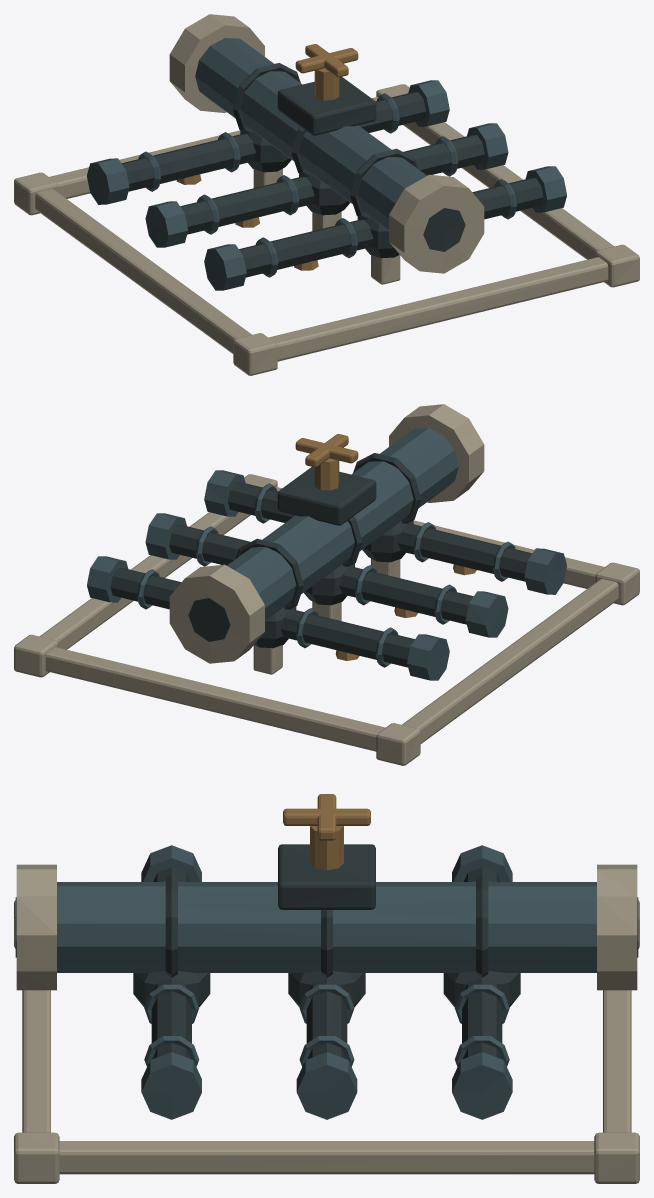
File: Drip-Irrigation.glb
3 views of the same model, one above another, from view 1: azimuth 30°, elevation 25°; view 2: azimuth 150°, elevation 25°; view 3: azimuth 270°, elevation 25° (orthographic). The views are drawn at different scales.
Visible parts, largest first — view 1: drip-irrigation-static-drip-rail-mat, drip-irrigation-static-drip-charcoal-fitting-mat, drip-irrigation-static-drip-blue-grey-pipe-mat, drip-irrigation-static-drip-brass-valve-mat; view 2: drip-irrigation-static-drip-rail-mat, drip-irrigation-static-drip-charcoal-fitting-mat, drip-irrigation-static-drip-blue-grey-pipe-mat, drip-irrigation-static-drip-brass-valve-mat; view 3: drip-irrigation-static-drip-blue-grey-pipe-mat, drip-irrigation-static-drip-rail-mat, drip-irrigation-static-drip-charcoal-fitting-mat, drip-irrigation-static-drip-brass-valve-mat.
Boxes of the visible parts, <box> form: drip-irrigation-static-drip-rail-mat: <box>14,14,639,375</box>; drip-irrigation-static-drip-charcoal-fitting-mat: <box>121,63,543,277</box>; drip-irrigation-static-drip-blue-grey-pipe-mat: <box>87,38,566,290</box>; drip-irrigation-static-drip-brass-valve-mat: <box>176,44,358,270</box>; drip-irrigation-static-drip-rail-mat: <box>14,404,639,765</box>; drip-irrigation-static-drip-charcoal-fitting-mat: <box>110,453,532,667</box>; drip-irrigation-static-drip-blue-grey-pipe-mat: <box>87,428,566,680</box>; drip-irrigation-static-drip-brass-valve-mat: <box>295,434,476,660</box>; drip-irrigation-static-drip-blue-grey-pipe-mat: <box>57,845,596,1119</box>; drip-irrigation-static-drip-rail-mat: <box>14,864,639,1183</box>; drip-irrigation-static-drip-charcoal-fitting-mat: <box>15,844,638,1058</box>; drip-irrigation-static-drip-brass-valve-mat: <box>283,794,370,870</box>.
Bounding box in the file's own units: 3.55 × 1.62 × 3.71.
